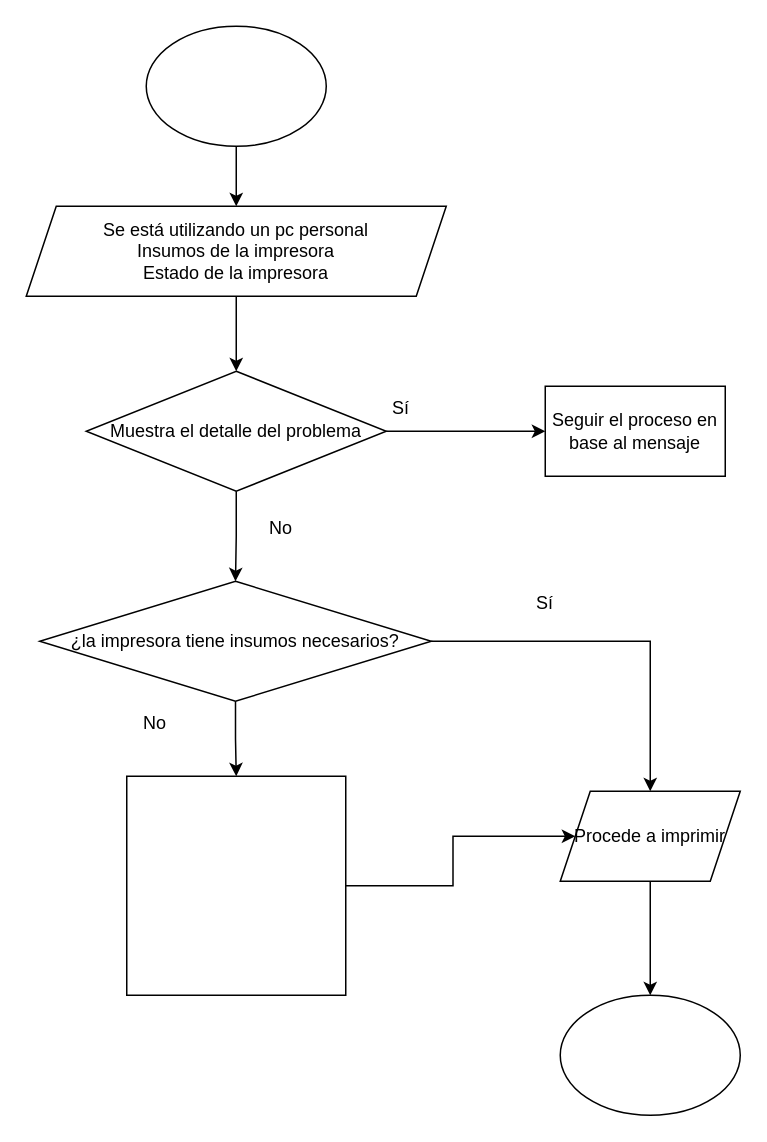
Image size: 767x1142. Some labels were removed from this diagram. The shapes that lost their labels are listed below. From the top down, each one's centre as x and y in pixels, then its label:
the point at 235,85: Inicio
the point at 235,885: Cargar insumos
the point at 649,1054: Fin
